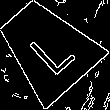L_NW: (18, 19, 76, 77)
